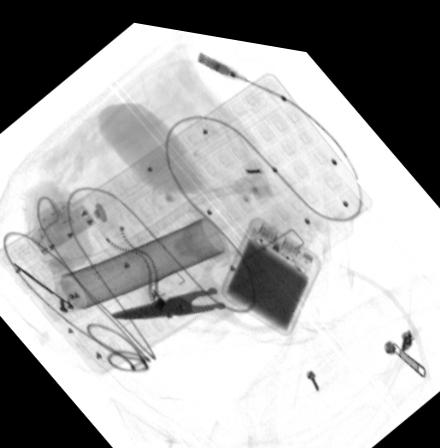Powerbank: (219, 207, 322, 329)
Scissors: (106, 240, 282, 327)
